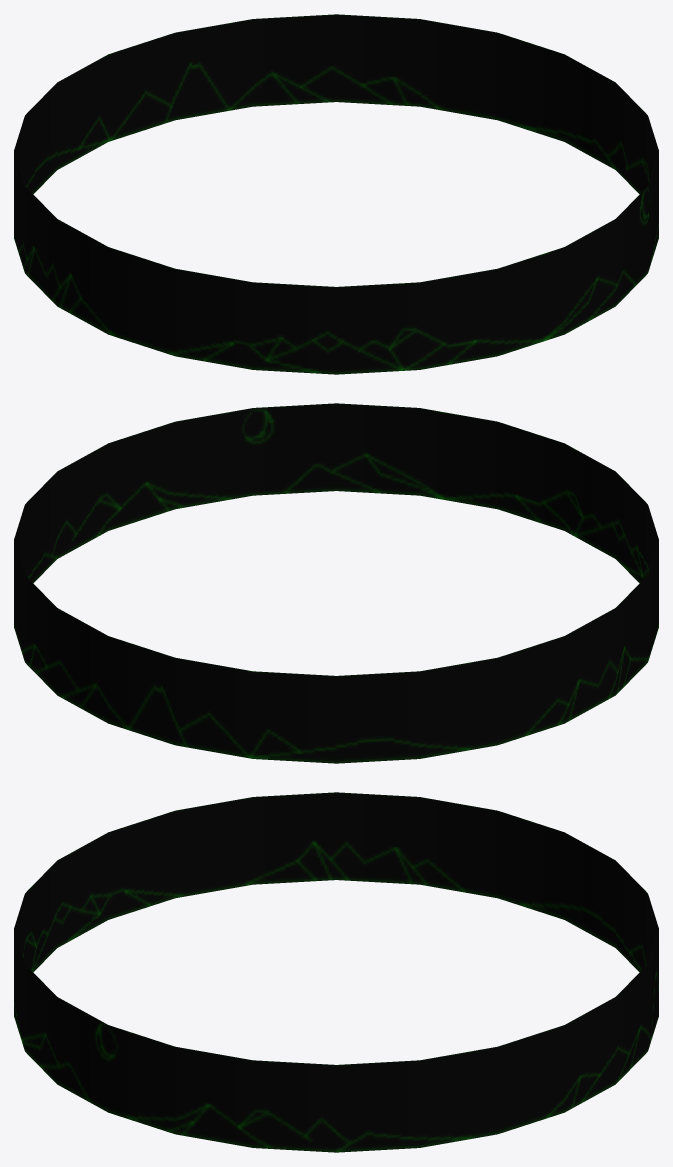
File: bz_background.glb
The picture shows the model from 3 angles, top to bottom: view 1: azimuth 30°, elevation 25°; view 2: azimuth 150°, elevation 25°; view 3: azimuth 270°, elevation 25°; orthographic projection.
Parts seen in each view (by area): view 1: bz_background; view 2: bz_background; view 3: bz_background.
Boxes of the visible parts, x1,y1,x2,y2 form: bz_background: (14, 14, 658, 374); bz_background: (14, 403, 658, 763); bz_background: (14, 792, 658, 1152).
Size of the model in its own units: 20 by 3 by 20.
Materials: 1 (1 with a texture image).
